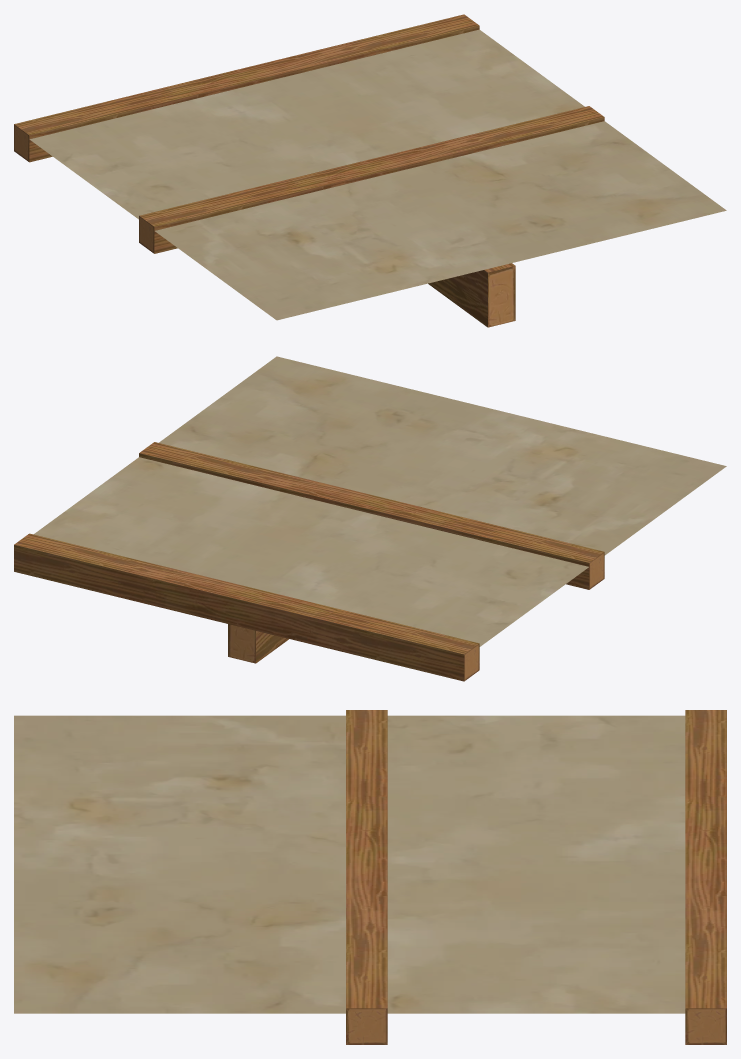
File: overhang_roof_plaster.glb
3 views of the same model, one above another, from view 1: azimuth 30°, elevation 25°; view 2: azimuth 150°, elevation 25°; view 3: azimuth 270°, elevation 25° (orthographic). The views are drawn at different scales.
Size of the model in its own units: 2 by 0.2659 by 2.02.
2 materials, 2 textured.
